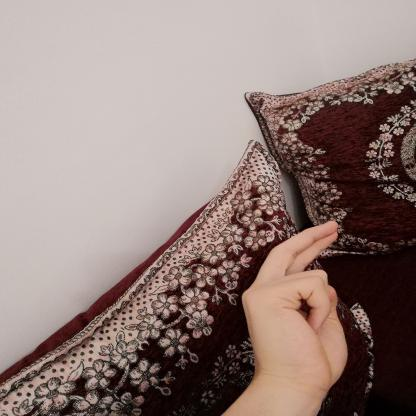ZAY: (232, 211, 360, 407)
